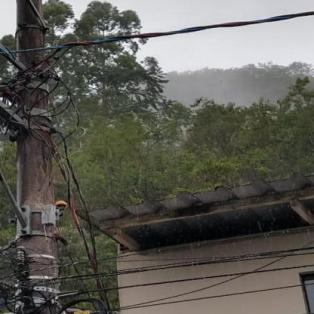Poste: (8, 0, 73, 314)
